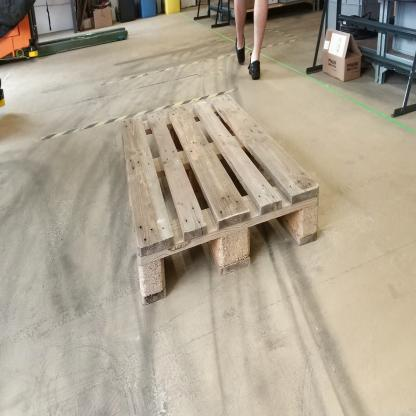BoxFace: (118, 84, 326, 316)
